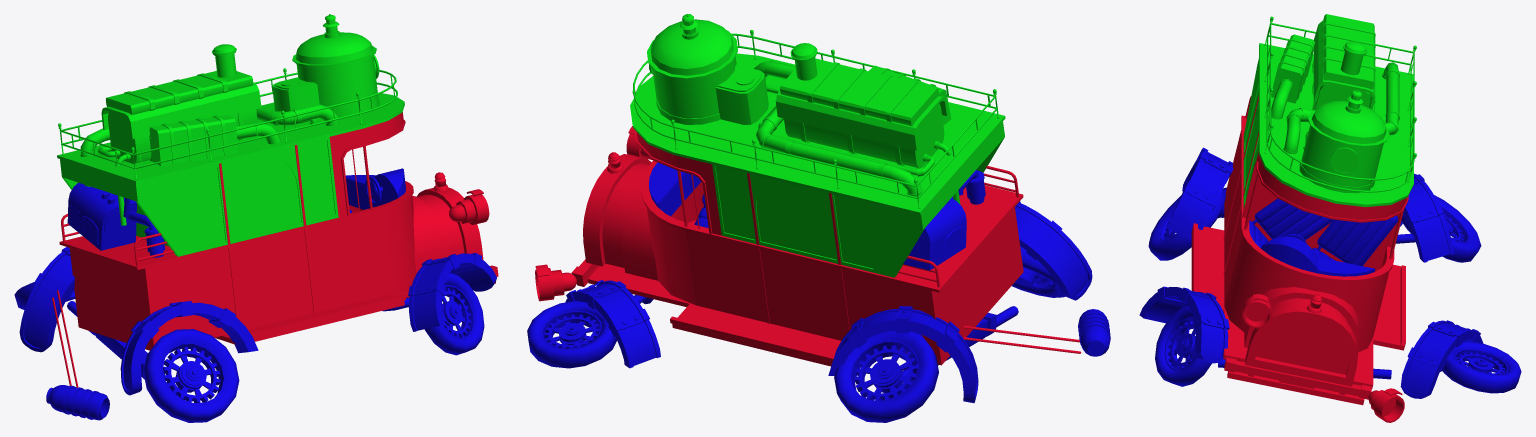
File: SM_town_vehicle_BROKEN.fbx
3 renders of one model, left to right at view 1: azimuth 30°, elevation 25°; view 2: azimuth 150°, elevation 25°; view 3: azimuth 270°, elevation 25°, orthographic. The views are drawn at different scales.
Parts seen in each view (by area): view 1: top_main_low, main_head_low, chair_cusion2_low.002; view 2: top_main_low, main_head_low, chair_cusion2_low.002; view 3: main_head_low, chair_cusion2_low.002, top_main_low.
Part boxes in pixels (<box>): top_main_low: <box>57,14,404,256</box>; main_head_low: <box>52,112,498,387</box>; chair_cusion2_low.002: <box>14,168,496,422</box>; top_main_low: <box>630,14,1005,277</box>; main_head_low: <box>535,126,1081,366</box>; chair_cusion2_low.002: <box>527,162,1110,422</box>; main_head_low: <box>1191,95,1408,422</box>; chair_cusion2_low.002: <box>1139,147,1521,398</box>; top_main_low: <box>1243,14,1416,208</box>.
Size of the model in its own units: 550 by 318 by 401.
